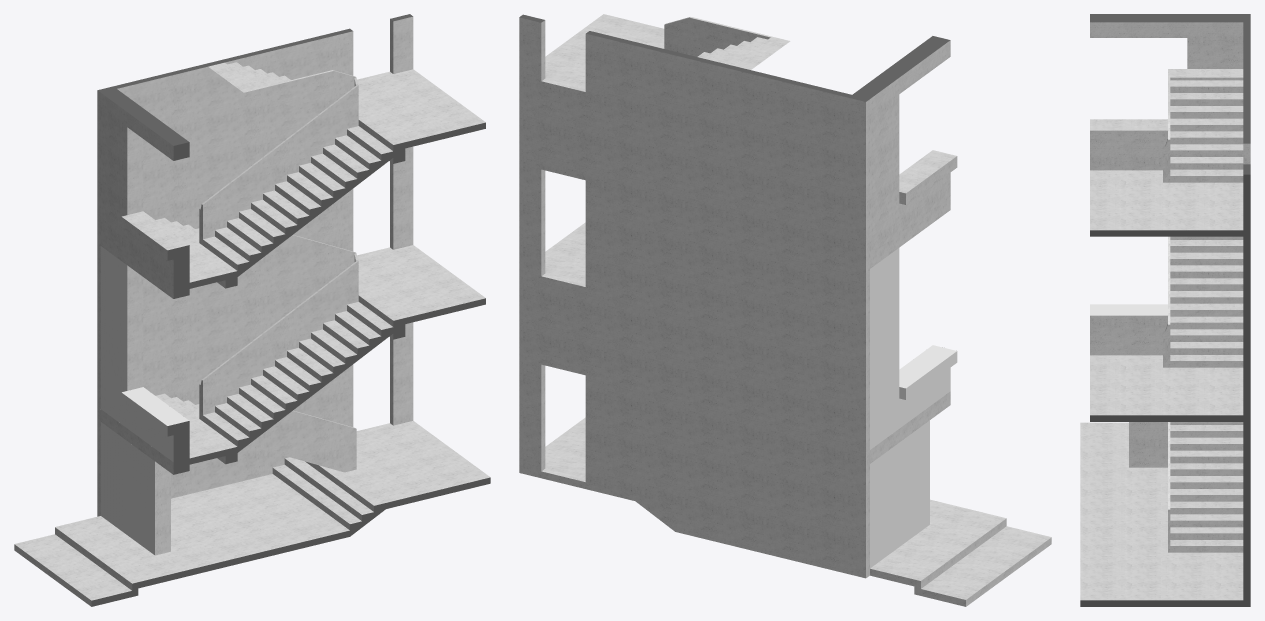
The model's file is bottom-landing-entrance-lowered-floor.glb.
3 renders of one model, left to right at view 1: azimuth 30°, elevation 25°; view 2: azimuth 150°, elevation 25°; view 3: azimuth 270°, elevation 25°, orthographic. The views are drawn at different scales.
Visible parts, largest first — view 1: 底层中间平台下作出入口的处理方式- 局部降低; view 2: 底层中间平台下作出入口的处理方式- 局部降低; view 3: 底层中间平台下作出入口的处理方式- 局部降低.
Part boxes in pixels (x1,y1,x2,y2): 底层中间平台下作出入口的处理方式- 局部降低: (14,14,490,606); 底层中间平台下作出入口的处理方式- 局部降低: (519,14,1051,606); 底层中间平台下作出入口的处理方式- 局部降低: (1080,14,1250,606).
Bounding box in the file's own units: 9.98 × 10.43 × 3.5.
3 materials, 1 textured.
